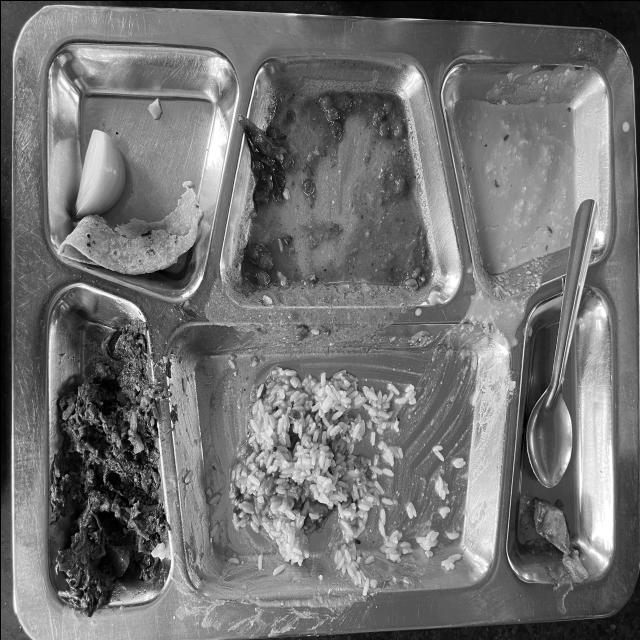20.2- Food Left: (28, 28, 622, 604)
